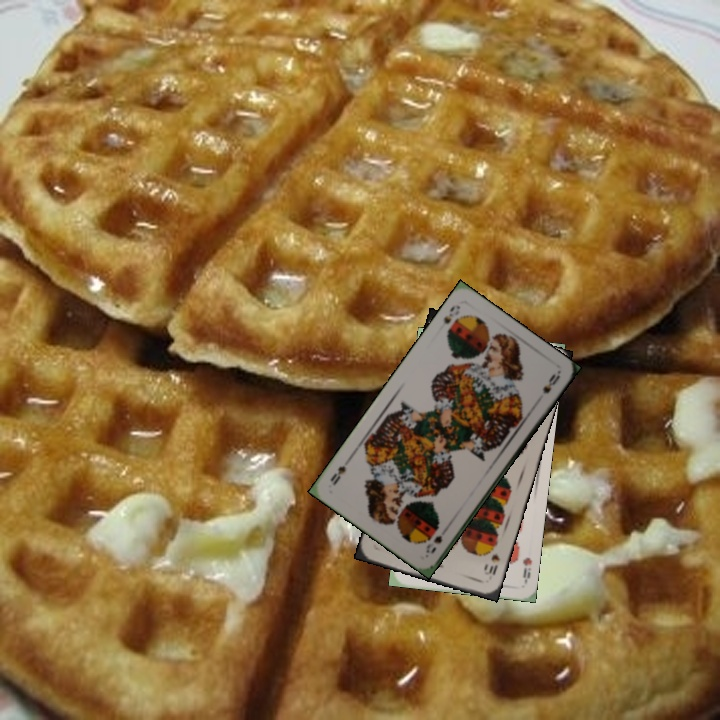H9: (519, 553, 534, 585)
S10: (480, 549, 503, 578)
SO: (440, 300, 463, 327), (422, 531, 445, 556)
